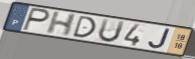4: (122, 23, 142, 47)
D: (71, 15, 97, 39)
H: (44, 11, 79, 38)
J: (147, 28, 172, 50)
P: (21, 6, 51, 33)
U: (97, 18, 127, 44)
